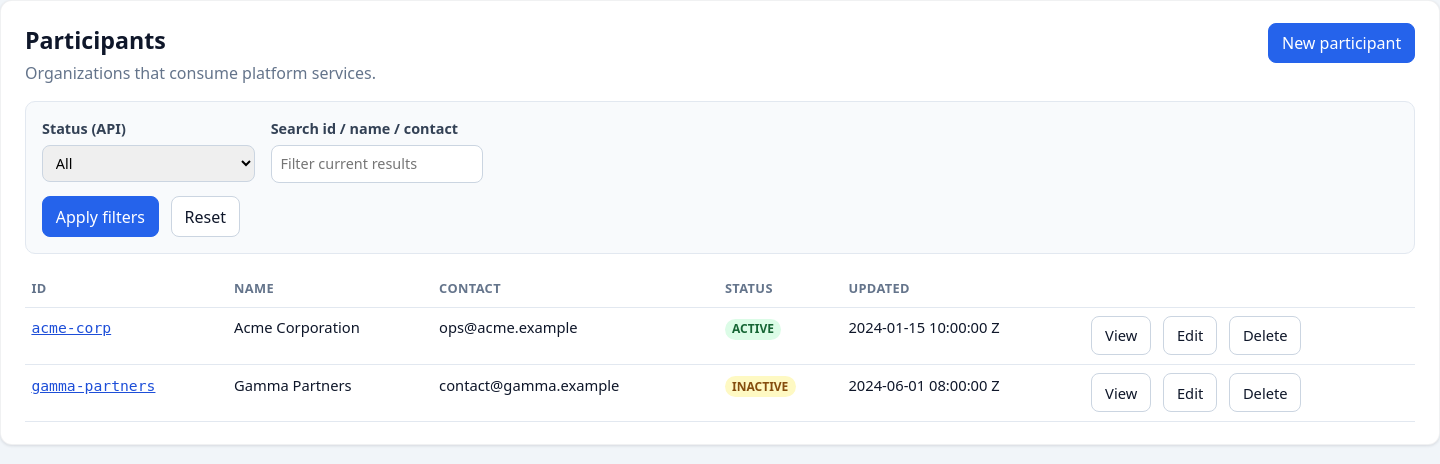
Scenario: ParticipantListPage › filters client-side by search text
Expected: the text "Acme Corporation" is shown, left=228, top=307, right=433, bottom=364
Type "gamma" into the field with placeholder "Filter current results" at (377, 164), box left=271, top=145, right=483, bottom=183
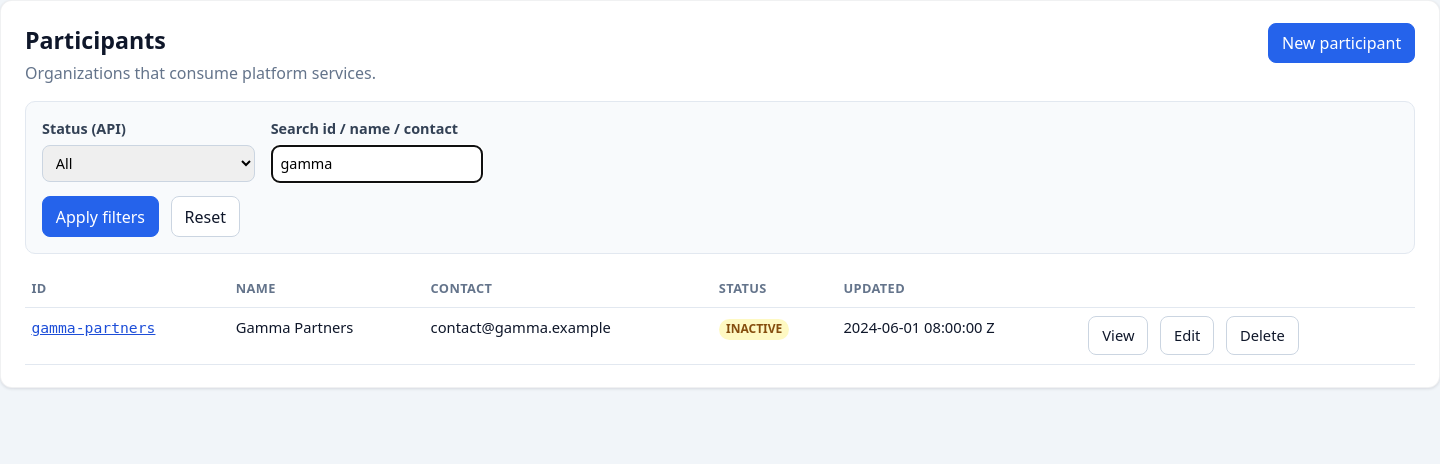
Expected: the text "Gamma Partners" is shown, left=229, top=307, right=424, bottom=364
Now the text "Acme Corporation" is gone
